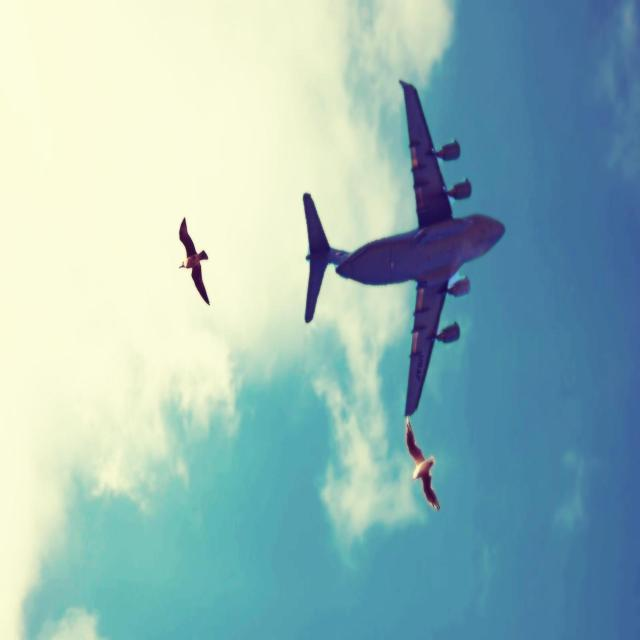airplane: (302, 78, 506, 416)
